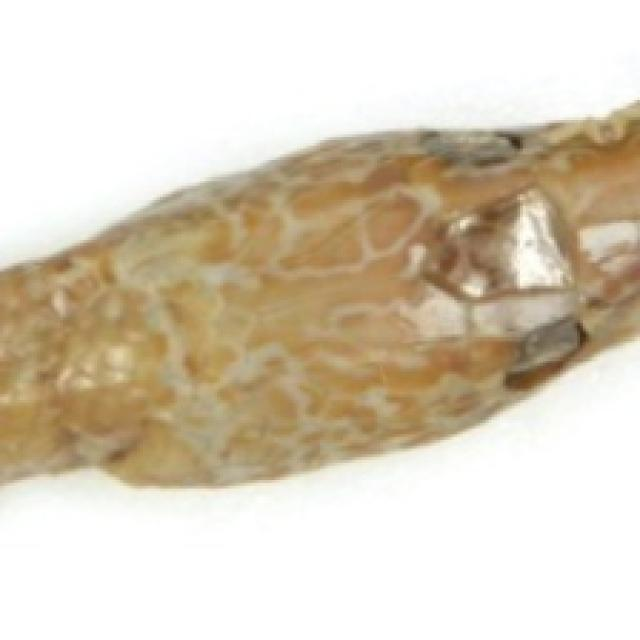mullers wolf snake: (0, 106, 637, 480), (0, 340, 637, 537), (97, 563, 214, 634), (77, 583, 97, 620), (60, 583, 77, 617)
